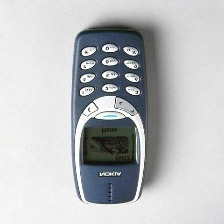phone: (65, 24, 152, 210)
